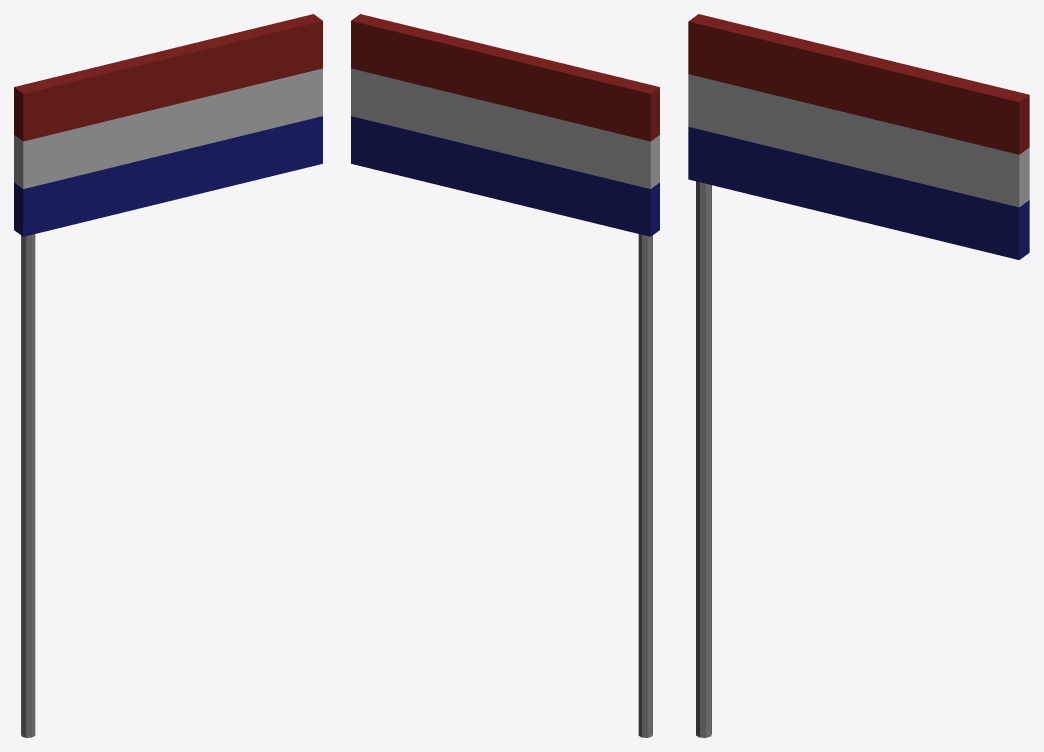
Rendered from NL Flag .fbx.
3 renders of one model, left to right at view 1: azimuth 30°, elevation 25°; view 2: azimuth 150°, elevation 25°; view 3: azimuth 330°, elevation 25°, orthographic. The views are drawn at different scales.
Visible parts, largest first — view 1: Cylinder; view 2: Cylinder; view 3: Cylinder.
Boxes of the visible parts, x1=… form: Cylinder: x1=14, y1=14, x2=322, y2=737; Cylinder: x1=351, y1=14, x2=659, y2=737; Cylinder: x1=688, y1=14, x2=1029, y2=737.
Bounding box in the file's own units: 6.95 × 14.33 × 0.3722.
